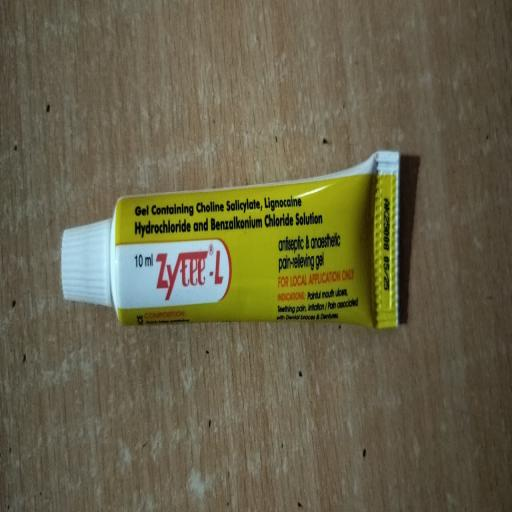Zytee-L: (49, 178, 437, 356)
